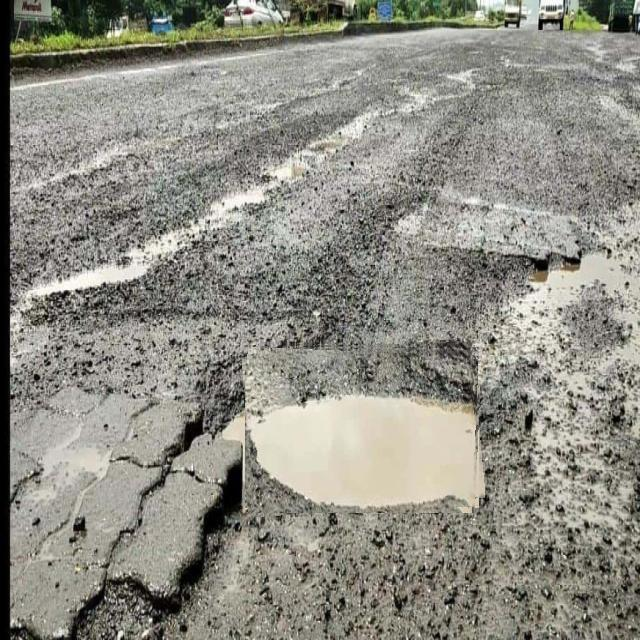Pothole: (245, 342, 482, 513)
